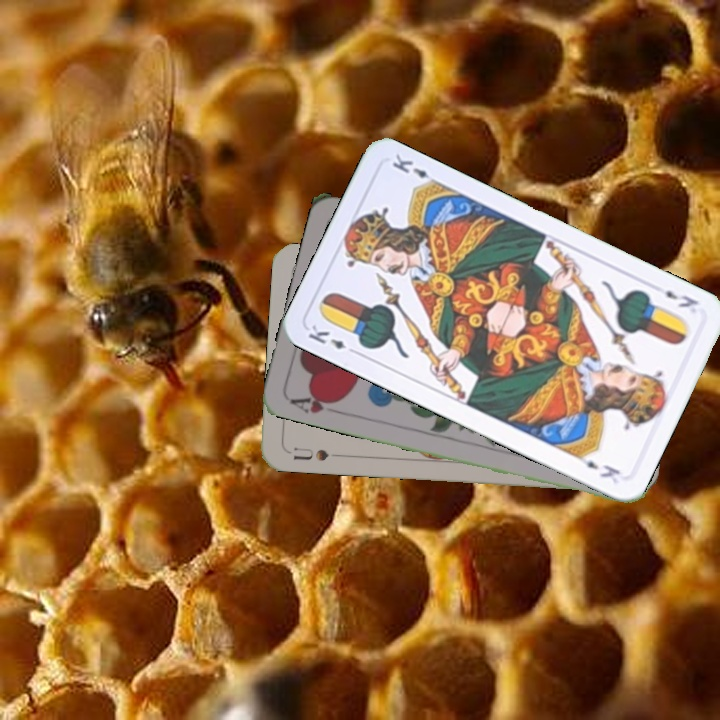EK: (304, 321, 361, 358), (661, 286, 701, 310)
HA: (286, 388, 344, 417)
SU: (289, 443, 331, 464)
